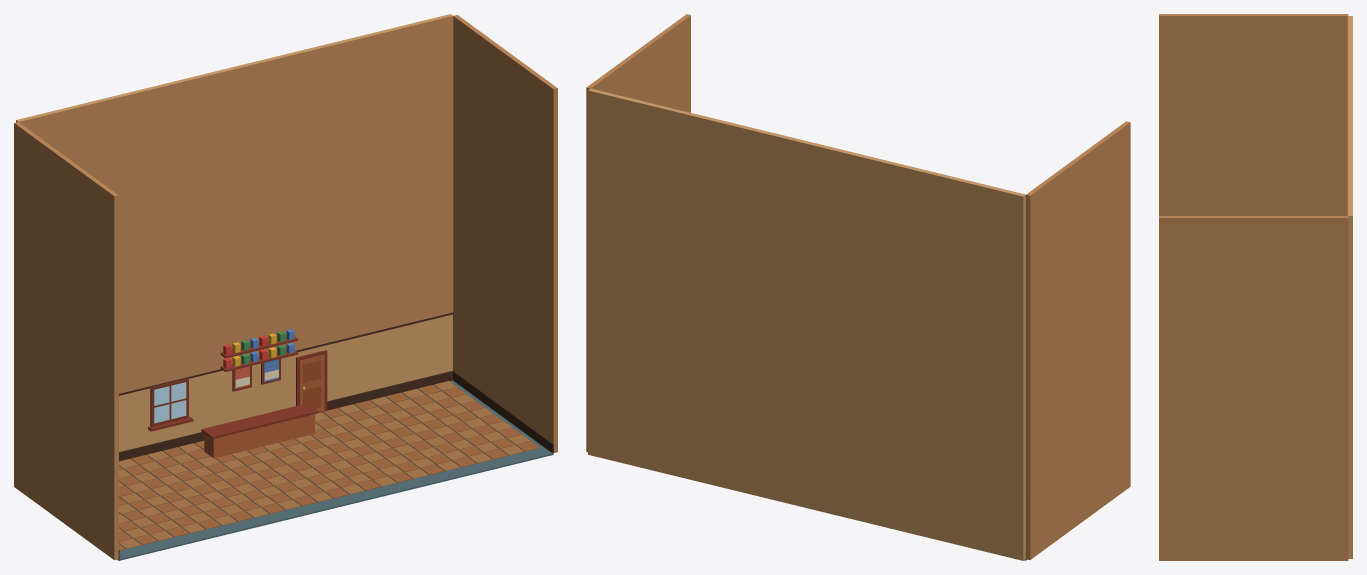
Rendered from room_africa_shop.glb.
3 views of the same model, side by side, from view 1: azimuth 30°, elevation 25°; view 2: azimuth 150°, elevation 25°; view 3: azimuth 270°, elevation 25° (orthographic). The views are drawn at different scales.
Parts seen in each view (by area): view 1: room; view 2: room; view 3: room.
Part boxes in pixels (left/top/right/bottom): room: left=14, top=14, right=557, bottom=560; room: left=586, top=14, right=1130, bottom=560; room: left=1159, top=14, right=1352, bottom=560.
Bounding box in the file's own units: 30.6 × 24.11 × 12.3.
